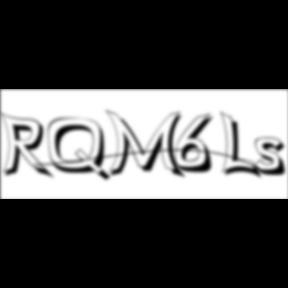6: (174, 112, 220, 176)
L: (221, 110, 265, 182)
M: (105, 108, 189, 181)
Q: (48, 117, 114, 184)
R: (1, 112, 58, 182)
